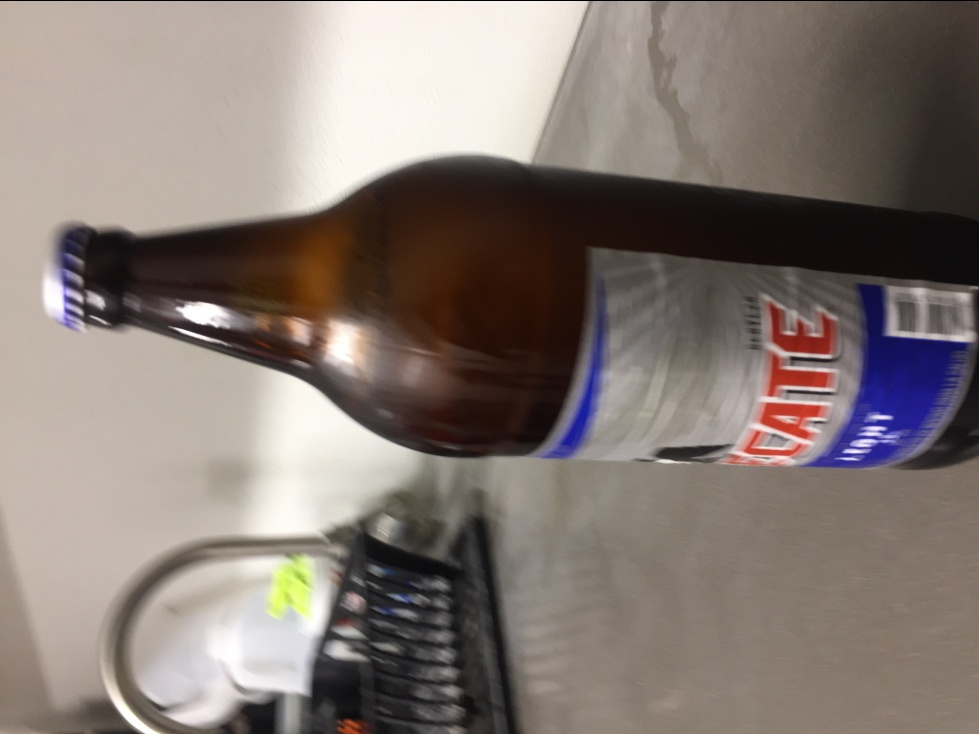tecateC: (32, 152, 979, 470)
